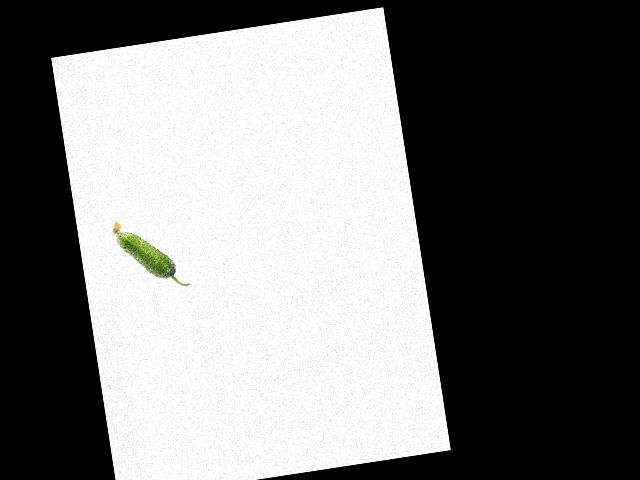cucumber: (111, 211, 190, 295)
